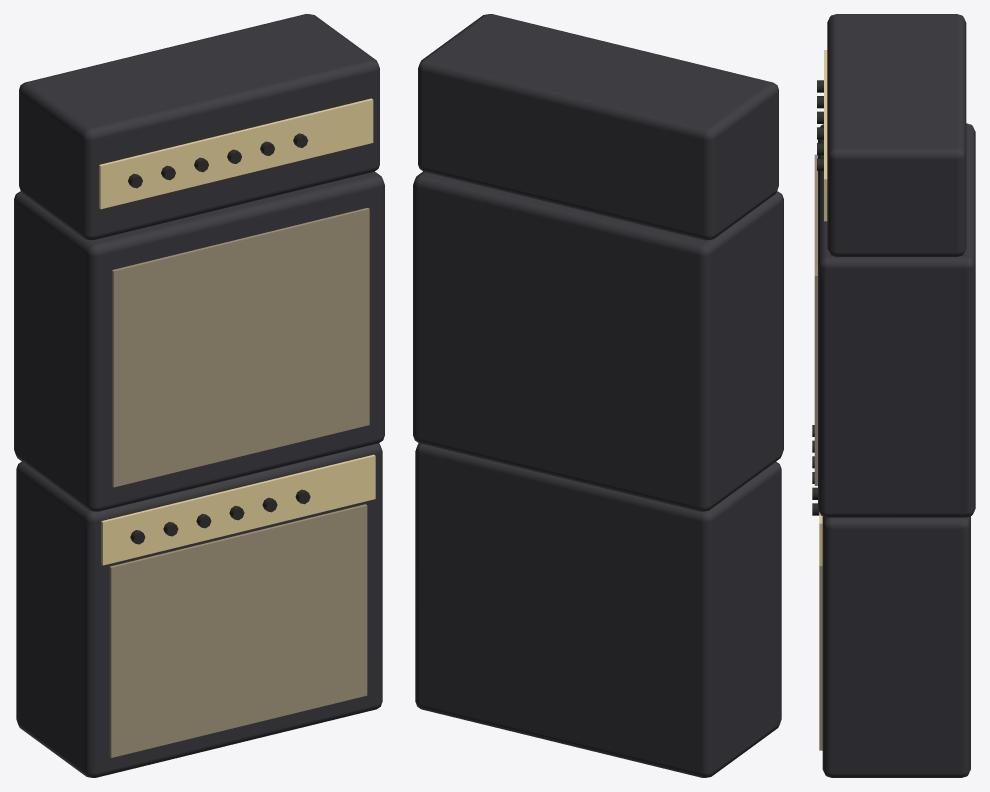
File: amp_stack.glb
3 renders of one model, left to right at view 1: azimuth 30°, elevation 25°; view 2: azimuth 150°, elevation 25°; view 3: azimuth 270°, elevation 25°, orthographic. The views are drawn at different scales.
Visible parts, largest first — view 1: amp_stack_std, amp_stack_metal; view 2: amp_stack_std; view 3: amp_stack_std, amp_stack_metal.
Part boxes in pixels (<box>): amp_stack_std: <box>14,14,384,777</box>; amp_stack_metal: <box>99,98,375,565</box>; amp_stack_std: <box>413,14,783,777</box>; amp_stack_std: <box>812,14,975,777</box>; amp_stack_metal: <box>819,50,827,565</box>.
Bounding box in the file's own units: 0.72 × 1.5 × 0.352.
